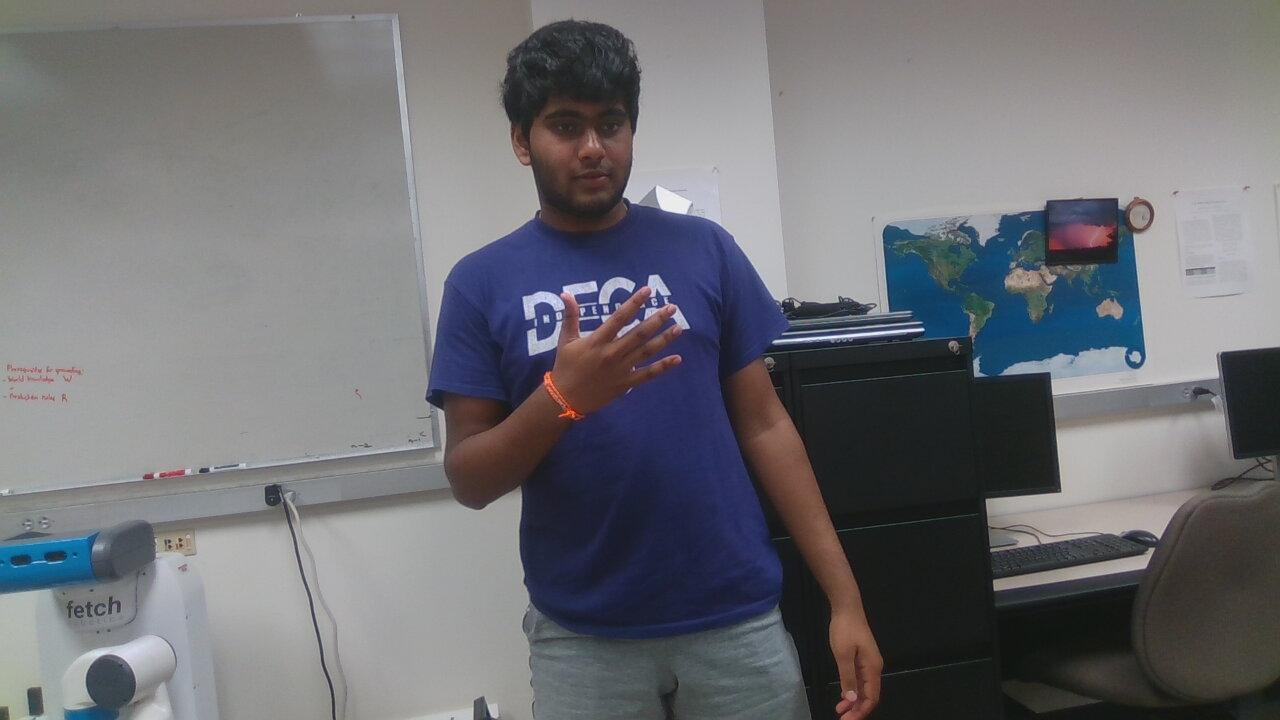hands: (533, 282, 687, 418), (818, 597, 897, 720)
